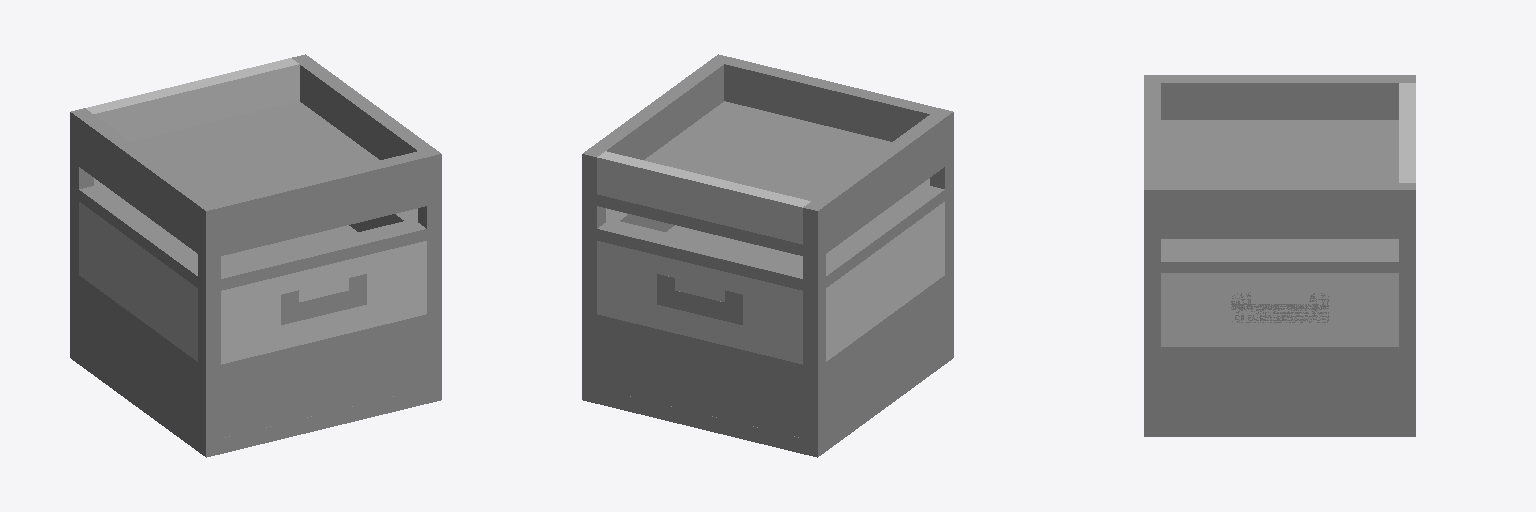
The model's file is BlockModel.obj.
3 renders of one model, left to right at view 1: azimuth 30°, elevation 25°; view 2: azimuth 150°, elevation 25°; view 3: azimuth 270°, elevation 25°, orthographic.
Visible parts, largest first — view 1: IngotHolderBase, FuelHolderWallNegY, DestroyedMetalHolderWallNegY, DestroyedMetalBasin, IngotHolderRimNegY, FuelHolderWallNegX, DestroyedMetalHolderWallNegX, IngotHolderRimPosY, IngotHolderRimNegX, FuelHolderBottom, IngotHolderRimPosX, DestroyedMetalBasinConnectorNegY (+9 smaller); view 2: IngotHolderBase, FuelHolderWallPosY, DestroyedMetalHolderWallPosY, DestroyedMetalBasin, IngotHolderRimPosY, FuelHolderWallNegX, DestroyedMetalHolderWallNegX, IngotHolderRimNegY, IngotHolderRimNegX, FuelHolderBottom, IngotHolderRimPosX, DestroyedMetalBasinConnectorPosY (+9 smaller); view 3: IngotHolderBase, FuelHolderWallPosX, DestroyedMetalHolderWallPosX, IngotHolderRimNegX, IngotHolderRimPosX, DestroyedMetalBasin, FuelHolderBottom, IngotHolderRimPosY, IngotHolderRimNegY, FuelHolderCornerPosXNegY, FuelHolderCornerPosXPosY, DestroyedMetalHolderCornerPosXNegY (+4 smaller).
Part boxes in pixels (bbox=[...]): IngotHolderBase: bbox=[70, 101, 441, 259]; FuelHolderWallNegY: bbox=[221, 314, 426, 437]; DestroyedMetalHolderWallNegY: bbox=[221, 241, 426, 364]; DestroyedMetalBasin: bbox=[70, 178, 441, 293]; IngotHolderRimNegY: bbox=[213, 151, 426, 244]; FuelHolderWallNegX: bbox=[79, 276, 197, 435]; DestroyedMetalHolderWallNegX: bbox=[79, 202, 197, 361]; IngotHolderRimPosY: bbox=[86, 58, 299, 141]; IngotHolderRimNegX: bbox=[79, 114, 211, 241]; FuelHolderBottom: bbox=[70, 343, 441, 457]; IngotHolderRimPosX: bbox=[300, 61, 432, 159]; DestroyedMetalBasinConnectorNegY: bbox=[281, 274, 366, 324]; IngotHolderBase: bbox=[582, 101, 953, 259]; FuelHolderWallPosY: bbox=[597, 314, 802, 437]; DestroyedMetalHolderWallPosY: bbox=[597, 241, 802, 364]; DestroyedMetalBasin: bbox=[582, 178, 953, 293]; IngotHolderRimPosY: bbox=[597, 151, 810, 244]; FuelHolderWallNegX: bbox=[826, 276, 944, 435]; DestroyedMetalHolderWallNegX: bbox=[826, 202, 944, 361]; IngotHolderRimNegY: bbox=[724, 58, 937, 141]; IngotHolderRimNegX: bbox=[812, 114, 944, 241]; FuelHolderBottom: bbox=[582, 343, 953, 457]; IngotHolderRimPosX: bbox=[591, 61, 723, 159]; DestroyedMetalBasinConnectorPosY: bbox=[657, 274, 742, 324]; IngotHolderBase: bbox=[1144, 120, 1415, 238]; FuelHolderWallPosX: bbox=[1161, 347, 1398, 420]; DestroyedMetalHolderWallPosX: bbox=[1161, 273, 1398, 346]; IngotHolderRimNegX: bbox=[1161, 75, 1398, 119]; IngotHolderRimPosX: bbox=[1161, 183, 1398, 226]; DestroyedMetalBasin: bbox=[1144, 239, 1415, 272]; FuelHolderBottom: bbox=[1144, 421, 1415, 436]; IngotHolderRimPosY: bbox=[1399, 83, 1415, 182]; IngotHolderRimNegY: bbox=[1144, 83, 1160, 182]; FuelHolderCornerPosXNegY: bbox=[1144, 347, 1160, 420]; FuelHolderCornerPosXPosY: bbox=[1399, 347, 1415, 420]; DestroyedMetalHolderCornerPosXNegY: bbox=[1144, 273, 1160, 346].
Size of the model in its own units: 1 by 1 by 1.